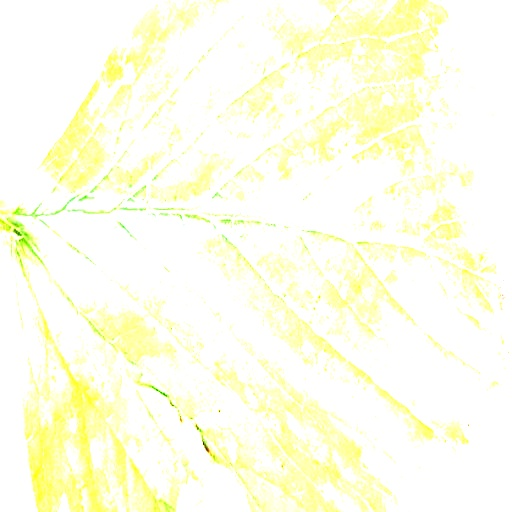Angular Leafspot: (0, 0, 511, 511)
